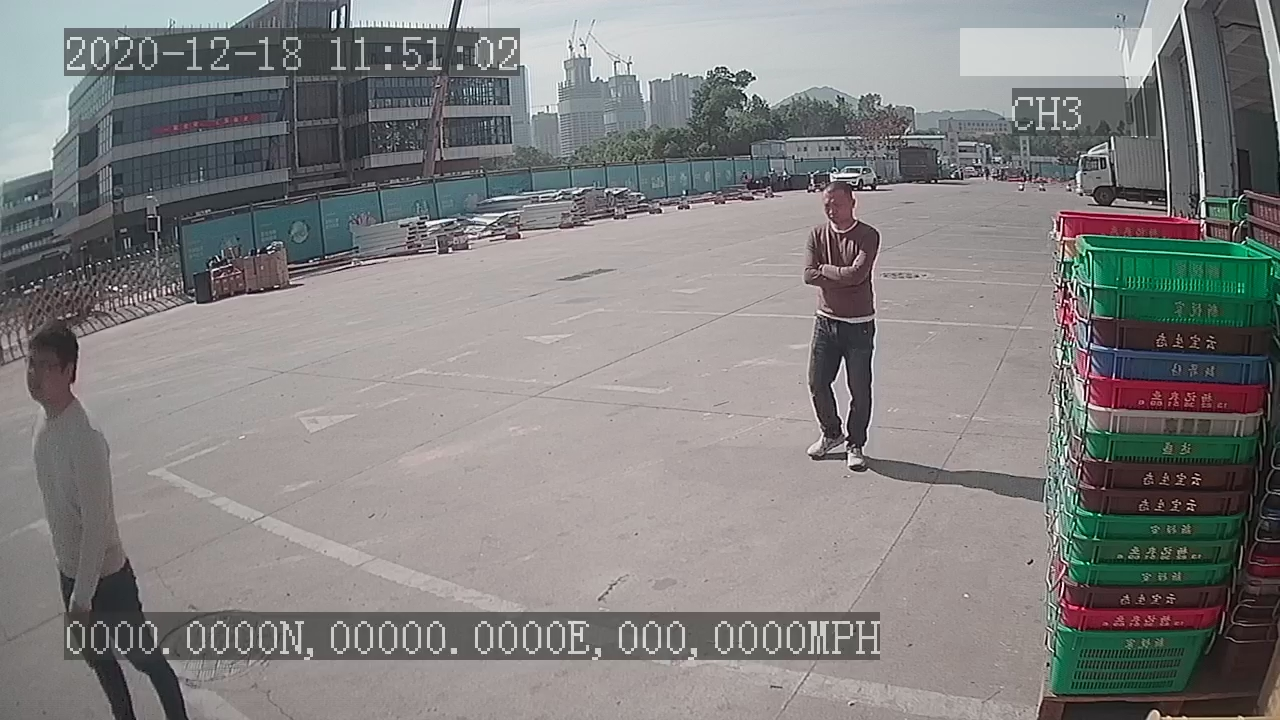person: (801, 176, 884, 479)
